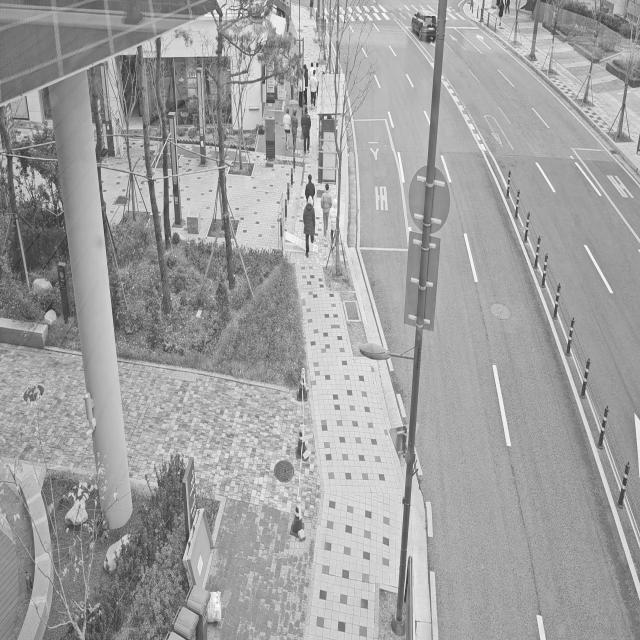Car: (408, 2, 441, 48)
